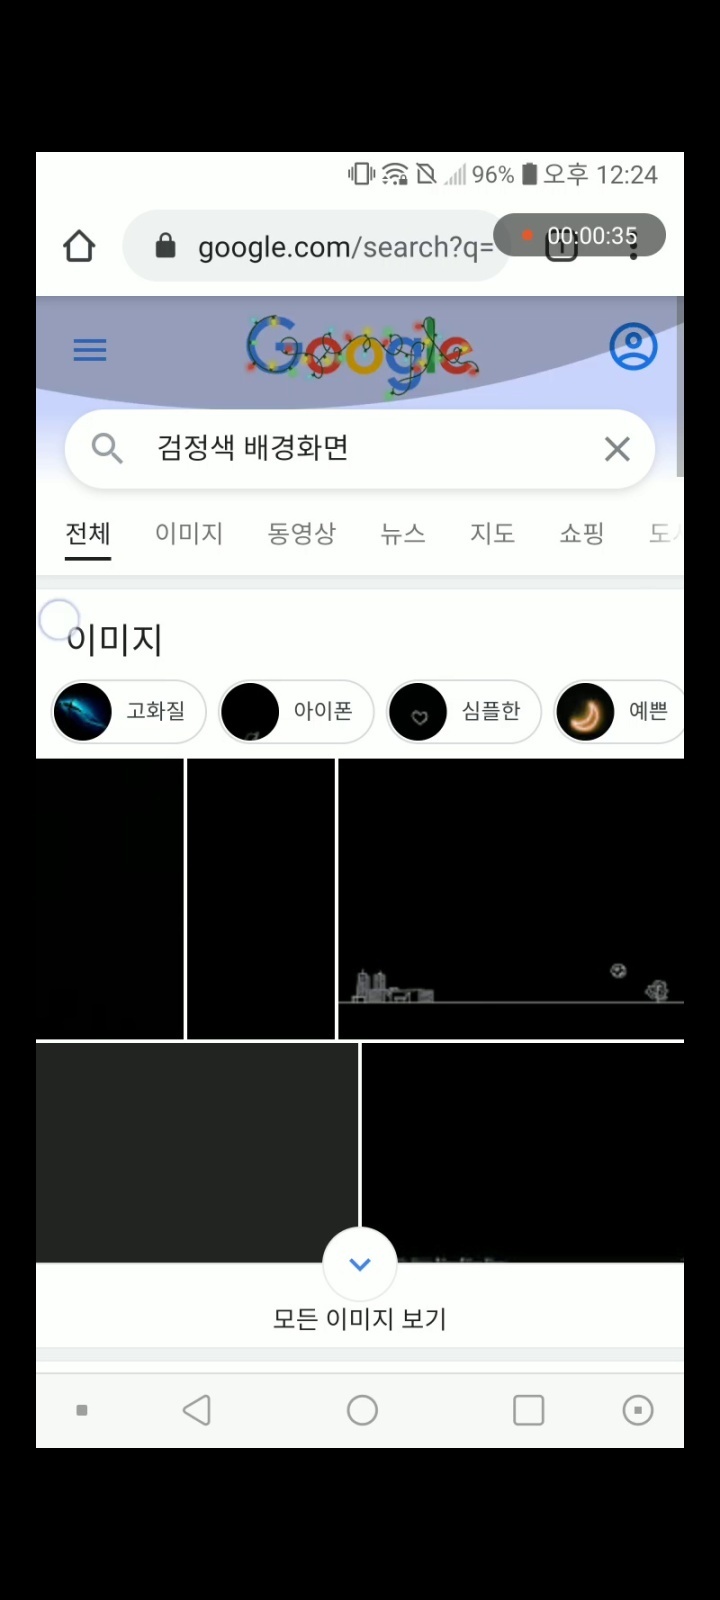Cursor: (37, 599, 81, 644)
